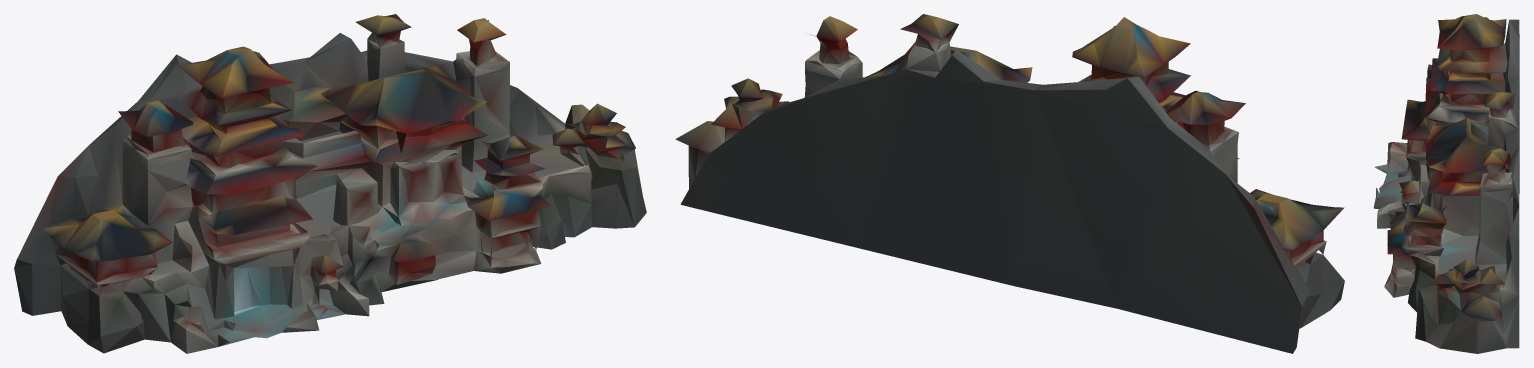
Rendered from cliff_palace.vc2.glb.
3 views of the same model, side by side, from view 1: azimuth 30°, elevation 25°; view 2: azimuth 150°, elevation 25°; view 3: azimuth 270°, elevation 25° (orthographic). The views are drawn at different scales.
Parts seen in each view (by area): view 1: cliff_palace; view 2: cliff_palace; view 3: cliff_palace.
Part boxes in pixels (<box>): cliff_palace: <box>14,14,646,353</box>; cliff_palace: <box>675,14,1344,353</box>; cliff_palace: <box>1373,14,1519,353</box>.
Bounding box in the file's own units: 1.9 × 0.7293 × 0.5144.
